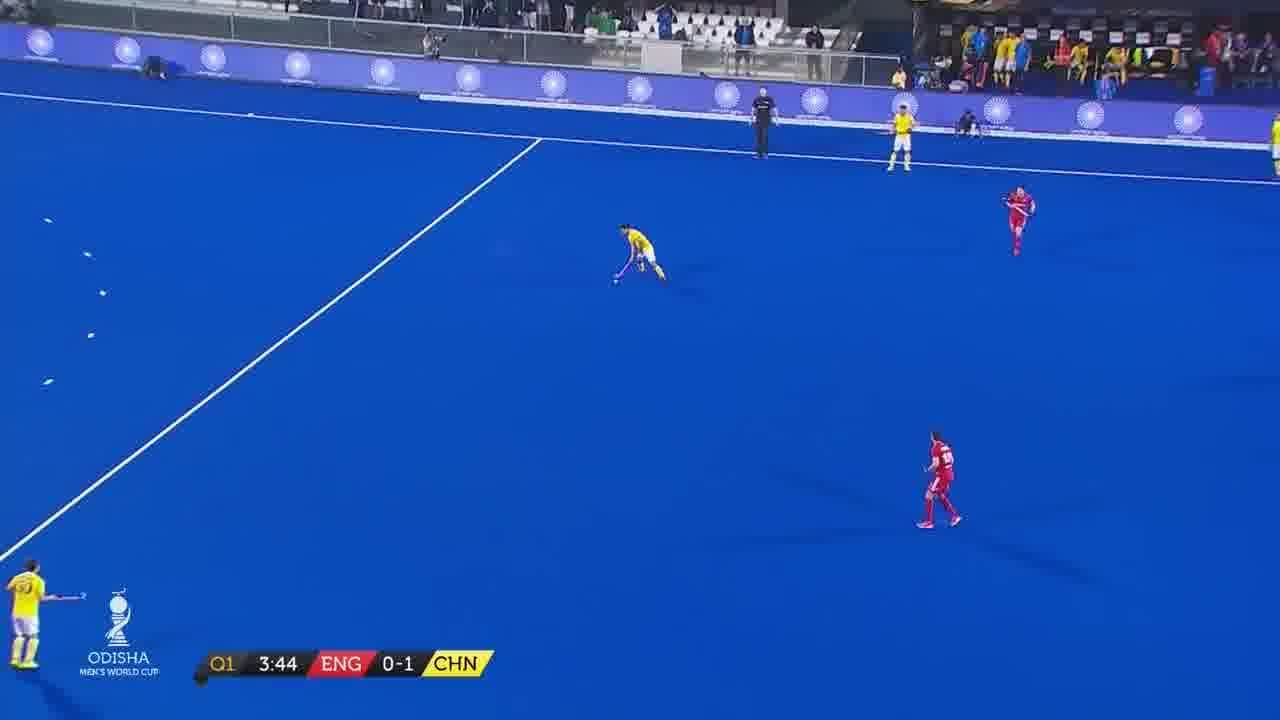ball: (614, 277, 619, 287)
